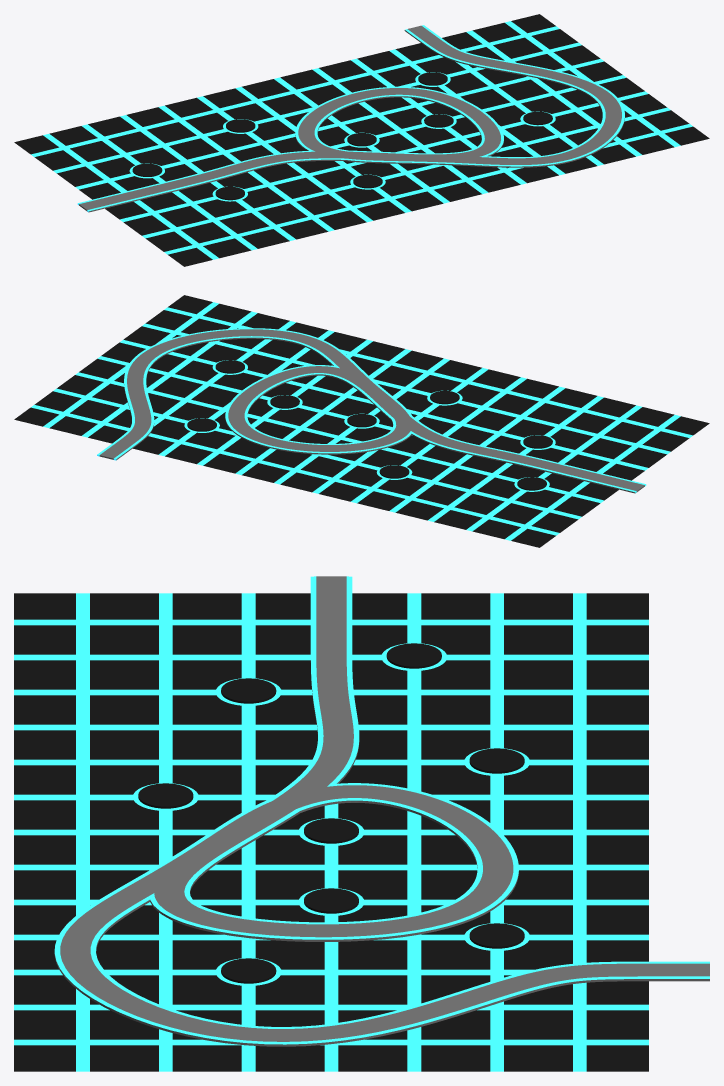
File: level4.fbx
3 renders of one model, top to bottom at view 1: azimuth 30°, elevation 25°; view 2: azimuth 150°, elevation 25°; view 3: azimuth 270°, elevation 25°, orthographic. The views are drawn at different scales.
Parts seen in each view (by area): view 1: Field, Plane.001; view 2: Field, Plane.001; view 3: Field, Plane.001, Cylinder, Cylinder.004, Cylinder.006, Cylinder.003, Cylinder.007, Cylinder.001, Cylinder.002, Cylinder.005.
Part boxes in pixels (x1,y1,x2,y2): Field: (14,14,709,266); Plane.001: (77,25,624,212); Field: (14,295,709,547); Plane.001: (97,328,646,493); Field: (14,593,648,1071); Plane.001: (54,576,709,1046); Cylinder: (469,923,524,948); Cylinder.004: (469,748,524,773); Cylinder.006: (138,783,193,808); Cylinder.003: (386,643,441,668); Cylinder.007: (221,958,276,983); Cylinder.001: (221,678,276,703); Cylinder.002: (304,818,358,843); Cylinder.005: (304,888,358,913).
Bounding box in the file's own units: 4225 × 20 × 2521.
